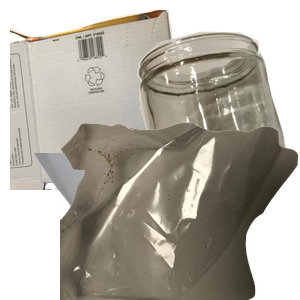cardboard: (10, 10, 191, 190)
glass: (135, 29, 300, 209)
plastic: (29, 153, 245, 300)
trash: (60, 120, 300, 300)
